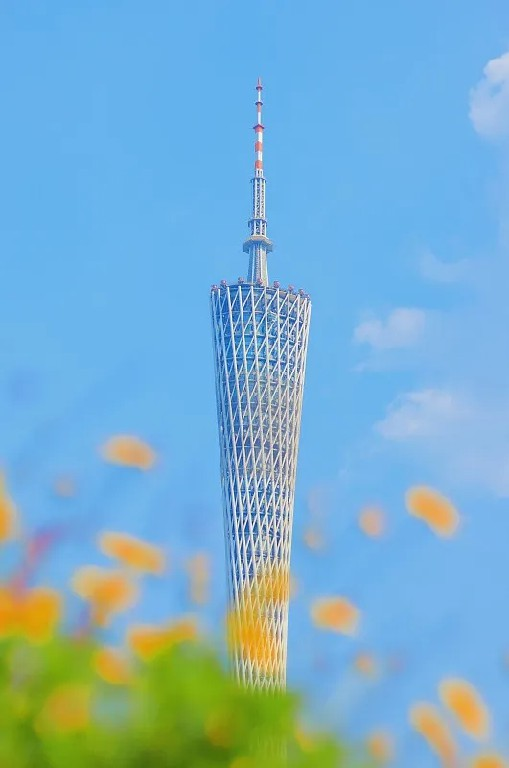Canton: (204, 77, 312, 768)
